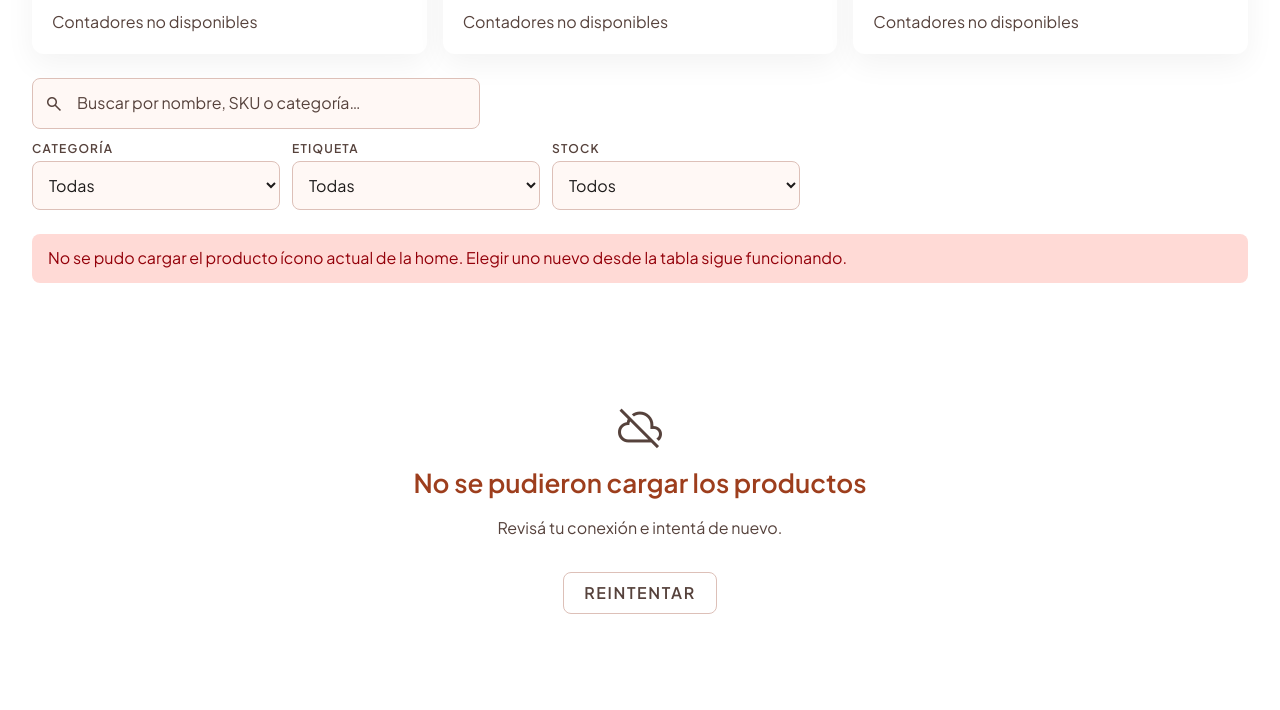
Test: AdminProductos — el error de carga y el estado vacío son excluyentes › un fetch exitoso posterior limpia el error
This screenshot has width=1280, height=710.
(page scrolled)
Expected: the heading "No se pudieron cargar los productos" is shown, [413, 467, 867, 500]
Step 1. Click the button "Reintentar" → (640, 593), box [563, 572, 717, 614]
(page scrolled)
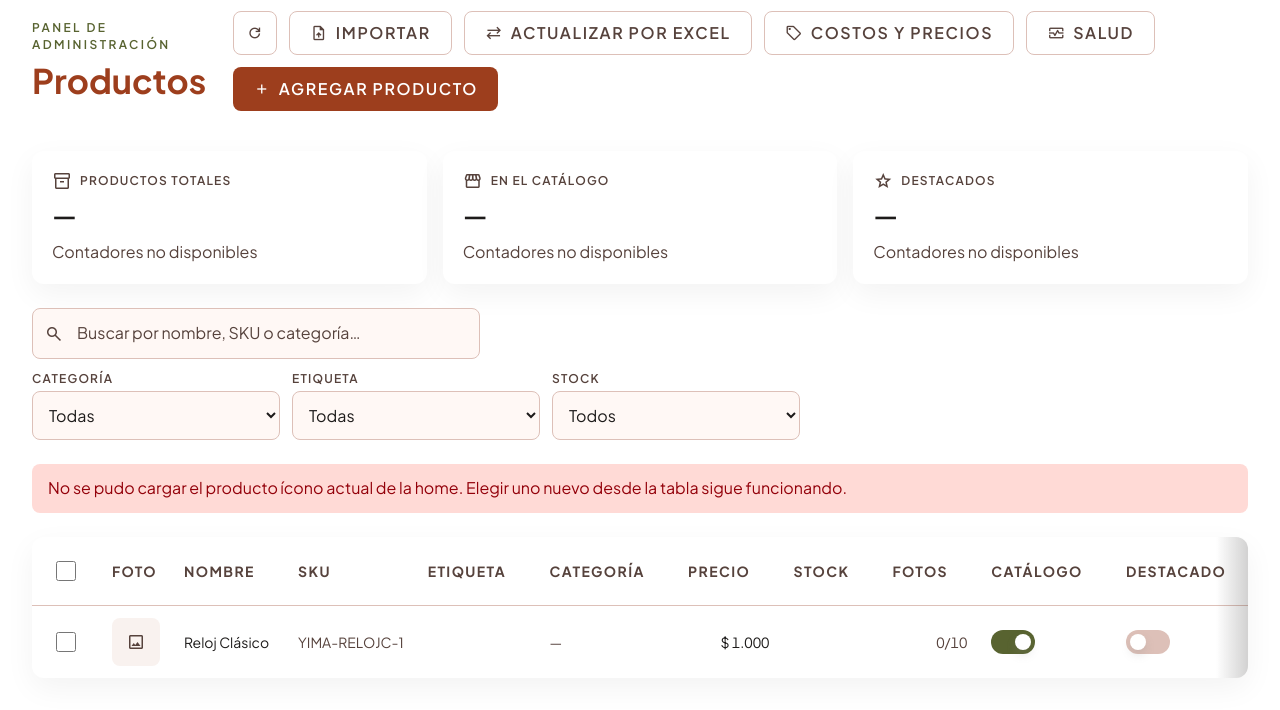
Now the text "Reloj Clásico" is shown, box [184, 632, 274, 652]
Now the heading "No se pudieron cargar los productos" is gone
